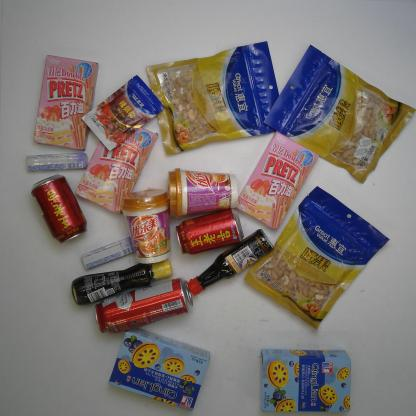Alcohol: (93, 270, 194, 335)
Candy: (80, 229, 135, 271), (23, 145, 90, 174)
Dessert: (108, 327, 212, 411), (74, 116, 160, 216), (233, 131, 319, 230), (256, 348, 353, 415), (32, 54, 98, 152)
Dried Fruit: (243, 186, 389, 332), (263, 44, 415, 184), (146, 41, 285, 156)
Drink: (30, 170, 88, 244), (173, 208, 249, 256)
Instant Drink: (119, 186, 172, 266), (164, 166, 240, 218)
Seasoner: (75, 72, 171, 158), (186, 224, 276, 297), (70, 252, 176, 310)
